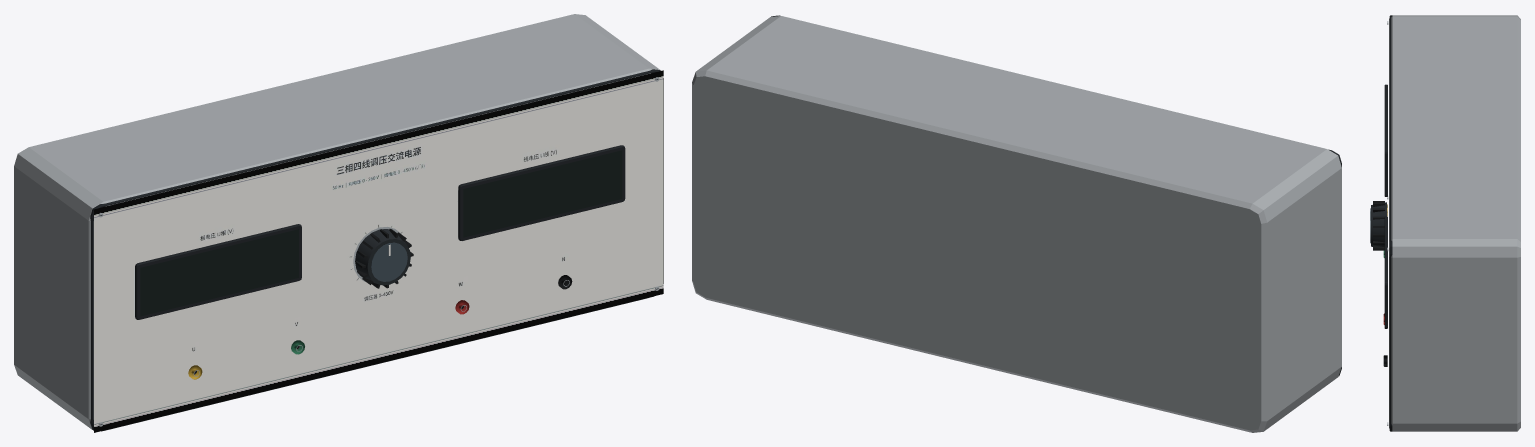
File: instrument.glb
The picture shows the model from 3 angles, left to right: view 1: azimuth 30°, elevation 25°; view 2: azimuth 150°, elevation 25°; view 3: azimuth 270°, elevation 25°; orthographic projection. The views are drawn at different scales.
Parts seen in each view (by area): view 1: PANEL_silkscreen, STATIC_paint, DISPLAY_LINE, DISPLAY_PHASE, MOVING_VARIAC_paint; view 2: STATIC_paint; view 3: STATIC_paint, MOVING_VARIAC_paint.
Part boxes in pixels (box(x1,y1,x2,y2)): PANEL_silkscreen: box(94, 70, 663, 432); STATIC_paint: box(14, 14, 663, 431); DISPLAY_LINE: box(463, 150, 622, 237); DISPLAY_PHASE: box(140, 229, 298, 316); MOVING_VARIAC_paint: box(355, 229, 413, 288); STATIC_paint: box(692, 15, 1341, 432); STATIC_paint: box(1383, 15, 1520, 431); MOVING_VARIAC_paint: box(1370, 201, 1386, 250).
Bounding box in the file's own units: 0.42 × 0.16 × 0.1143.
6 materials, 1 textured.
